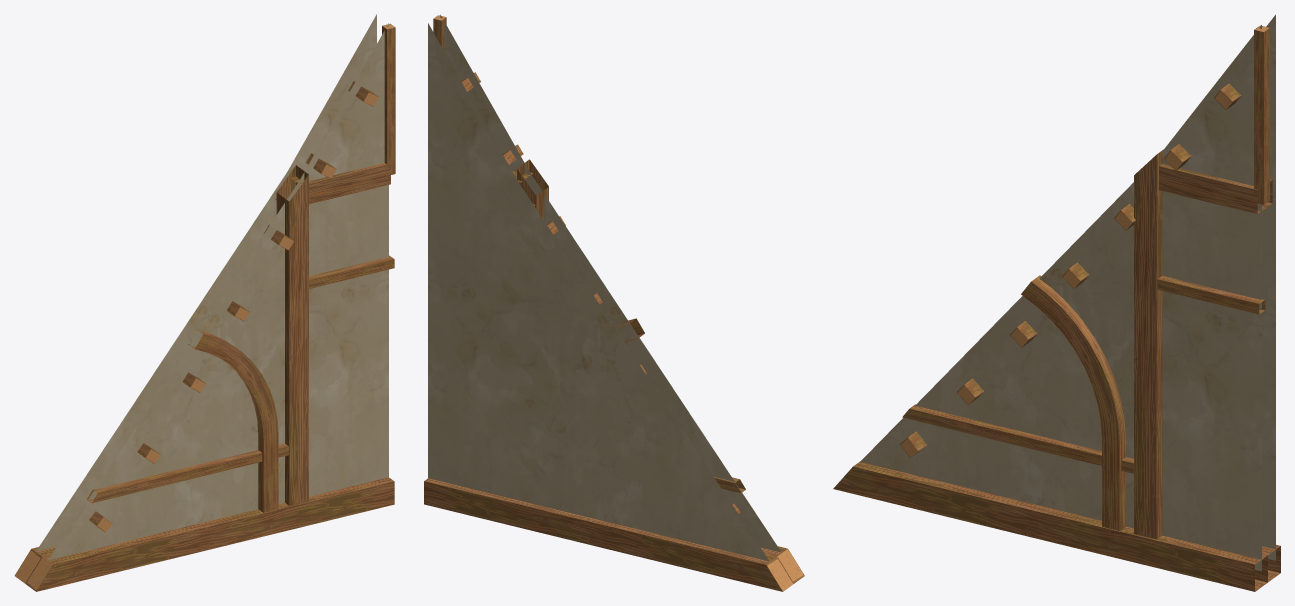
The model's file is roof_front_brick8_half_l.gltf.
3 renders of one model, left to right at view 1: azimuth 30°, elevation 25°; view 2: azimuth 150°, elevation 25°; view 3: azimuth 330°, elevation 25°, orthographic. The views are drawn at different scales.
Visible parts, largest first — view 1: Roof_Front_Brick8_Half_L; view 2: Roof_Front_Brick8_Half_L; view 3: Roof_Front_Brick8_Half_L.
Boxes of the visible parts, x1,y1,x2,y2 form: Roof_Front_Brick8_Half_L: (14, 14, 395, 591); Roof_Front_Brick8_Half_L: (424, 14, 804, 591); Roof_Front_Brick8_Half_L: (833, 14, 1280, 591).
Size of the model in its own units: 4.33 by 5.45 by 0.4896.
Materials: 2 (2 with a texture image).
